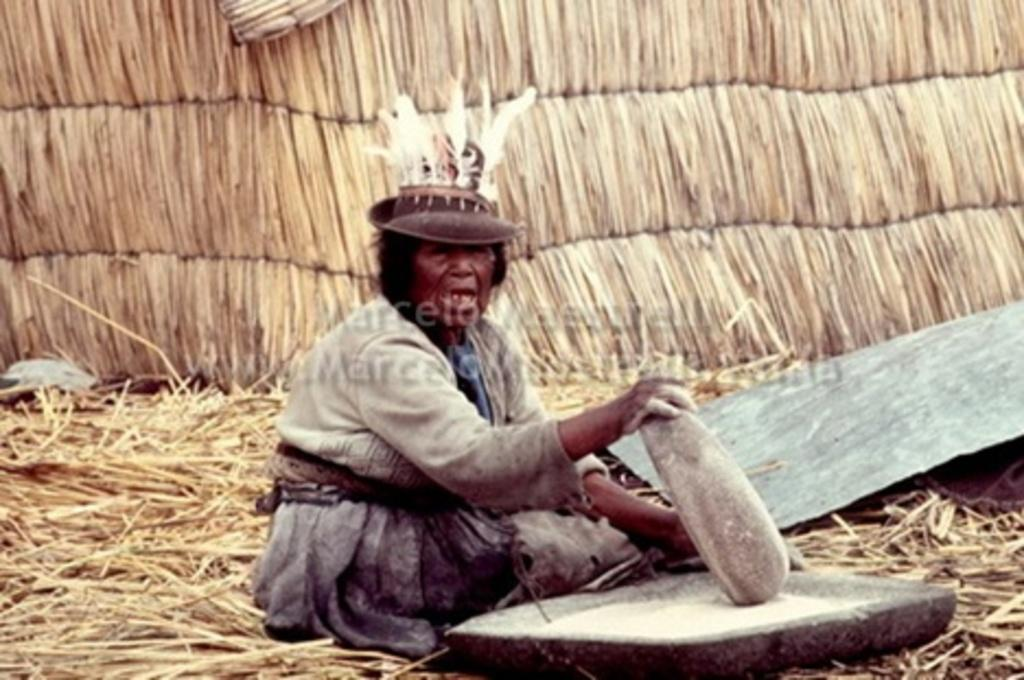Hat: (365, 128, 520, 244)
